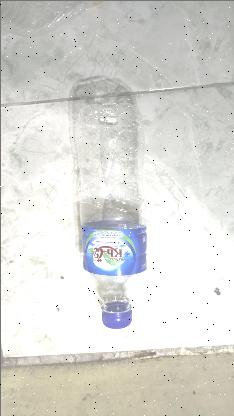Plastic Bottle: (68, 75, 146, 329)
